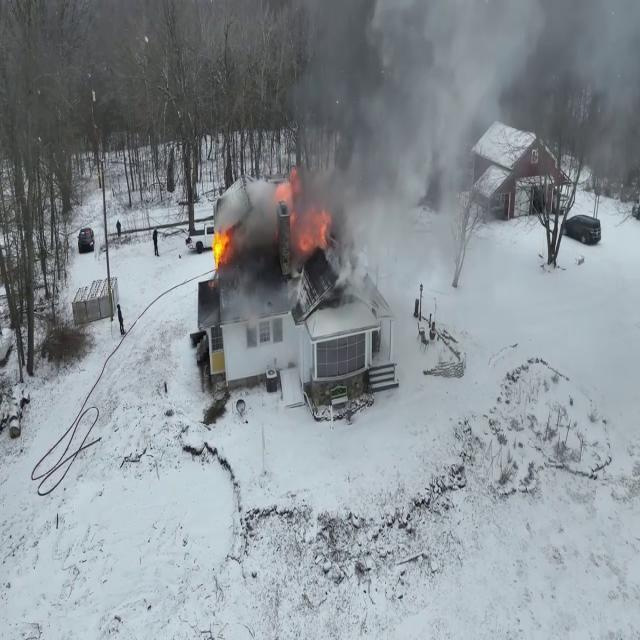Fire: (278, 177, 330, 261), (210, 224, 232, 268)
Smoke: (238, 0, 640, 278)
